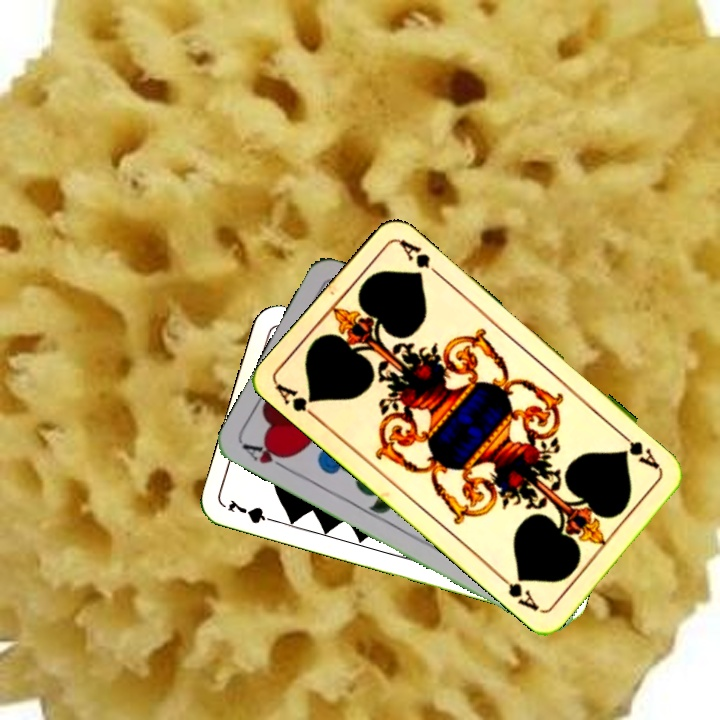G7: (223, 495, 282, 526)
GA: (272, 380, 323, 424), (616, 428, 664, 473)
HA: (239, 439, 294, 475)
